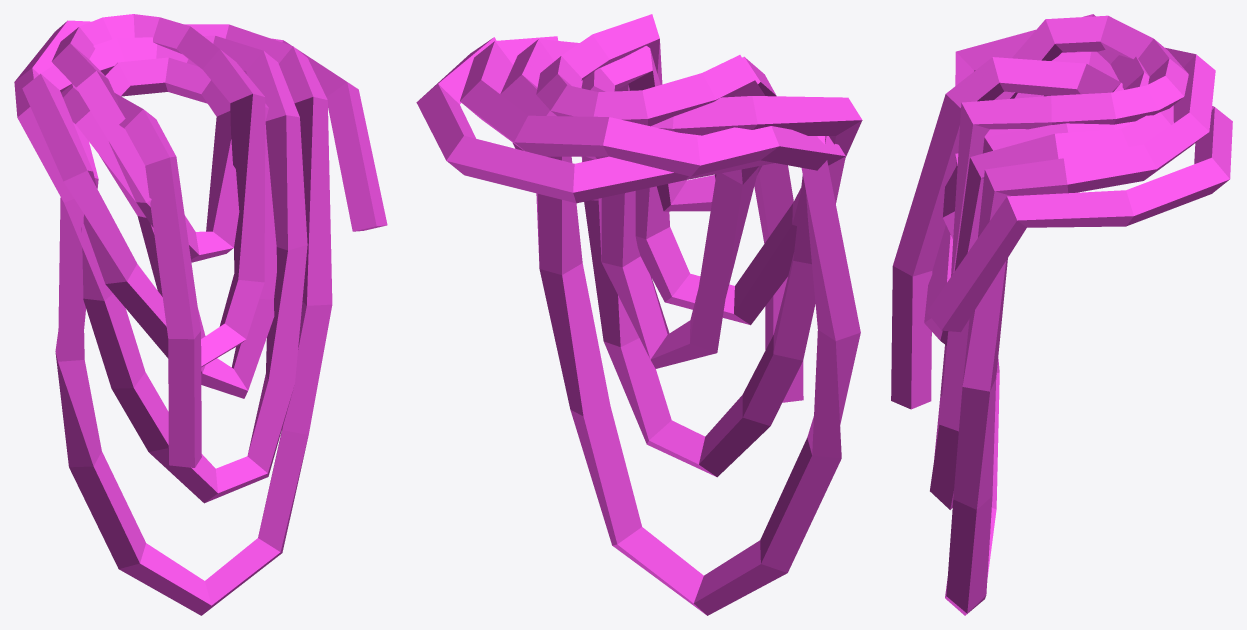
Rendered from SM_Rope_Bend_Fantasy.fbx.
3 views of the same model, side by side, from view 1: azimuth 30°, elevation 25°; view 2: azimuth 150°, elevation 25°; view 3: azimuth 270°, elevation 25° (orthographic). The views are drawn at different scales.
Parts seen in each view (by area): view 1: SM_Rope_Bend_Fantasy; view 2: SM_Rope_Bend_Fantasy; view 3: SM_Rope_Bend_Fantasy.
Boxes of the visible parts, left/top/right/bottom form: SM_Rope_Bend_Fantasy: left=14, top=14, right=387, bottom=615; SM_Rope_Bend_Fantasy: left=416, top=14, right=862, bottom=615; SM_Rope_Bend_Fantasy: left=891, top=14, right=1232, bottom=615.
Size of the model in its own units: 0.974 by 1.56 by 0.8528.
